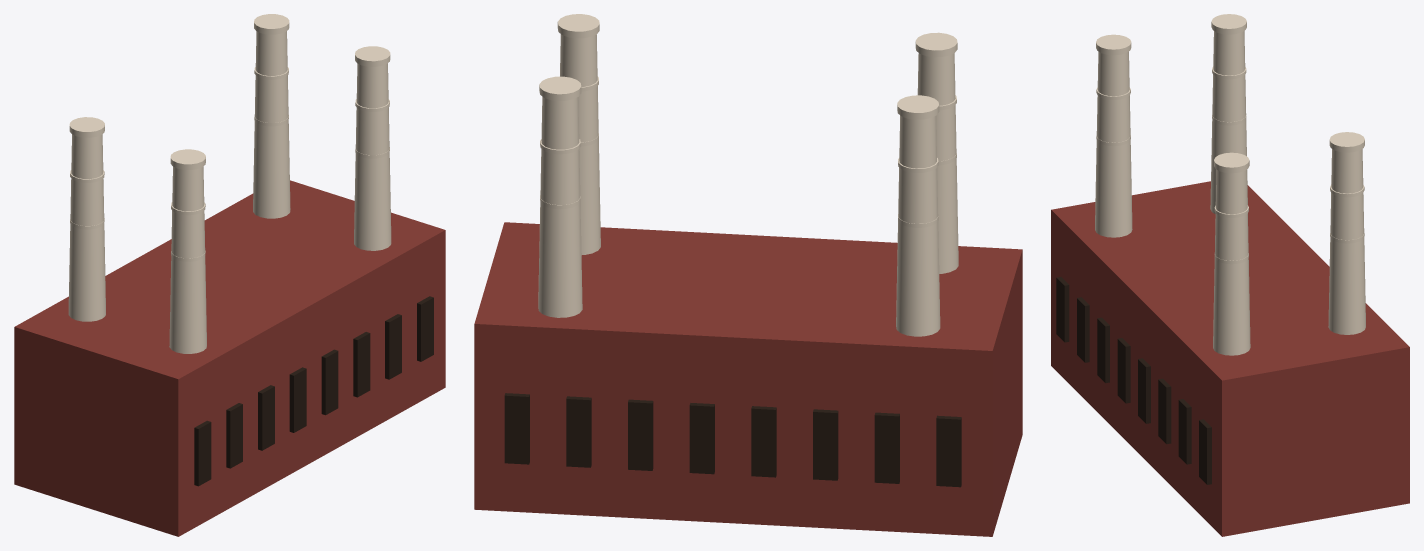
File: battersea.glb
3 views of the same model, side by side, from view 1: azimuth 30°, elevation 25°; view 2: azimuth 150°, elevation 25°; view 3: azimuth 270°, elevation 25° (orthographic). The views are drawn at different scales.
Parts seen in each view (by area): view 1: battersea; view 2: battersea; view 3: battersea.
Boxes of the visible parts, left/top/right/bottom form: battersea: left=14, top=14, right=445, bottom=536; battersea: left=474, top=14, right=1022, bottom=536; battersea: left=1051, top=14, right=1409, bottom=536.
Size of the model in its own units: 1.66 by 1.3 by 1.23.
